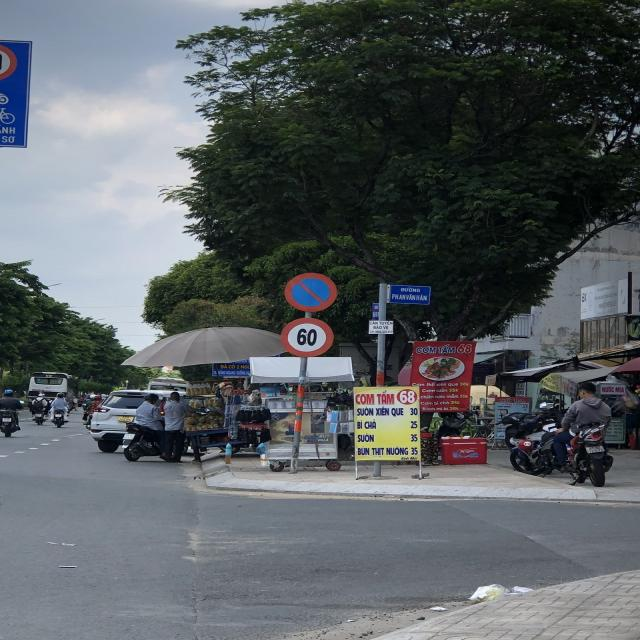Bien bao cam do xe: (280, 266, 338, 314)
Bien bao toc do toi da cho phep: (277, 315, 340, 361)
